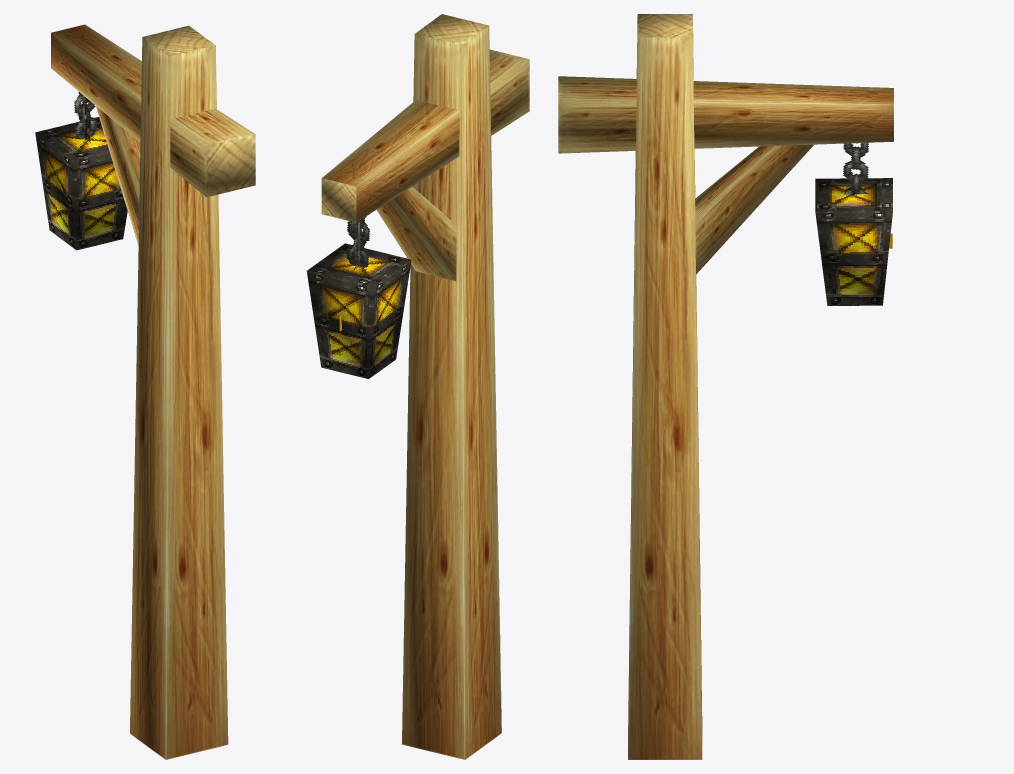
The model's file is lamppost.glb.
The picture shows the model from 3 angles, left to right: view 1: azimuth 30°, elevation 25°; view 2: azimuth 150°, elevation 25°; view 3: azimuth 270°, elevation 25°; orthographic projection. The views are drawn at different scales.
Bounding box in the file's own units: 0.402 × 4.1 × 2.28.
Materials: 4 (4 with a texture image).
